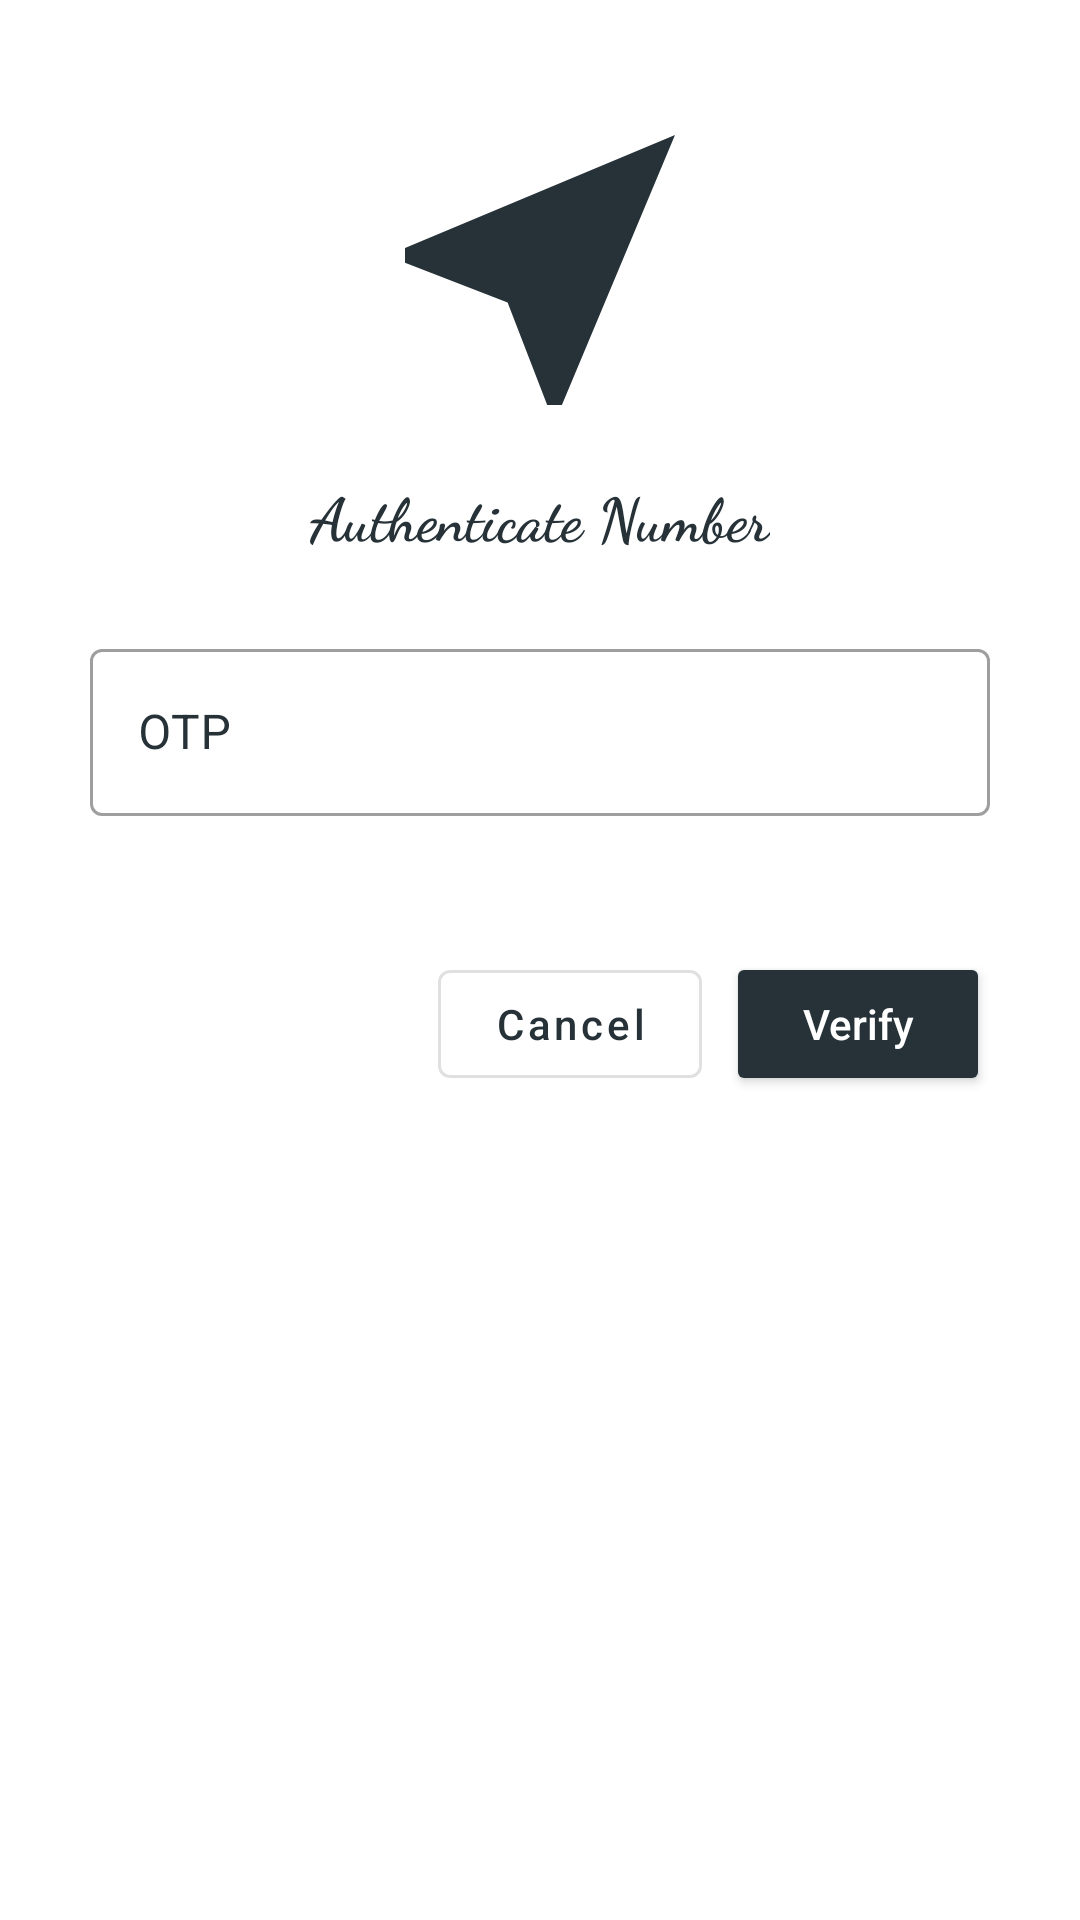

Where icons sit on this 1080w x 1920h app screen, as (x1, y1, x2, y2):
near me: (405, 135, 675, 405)
